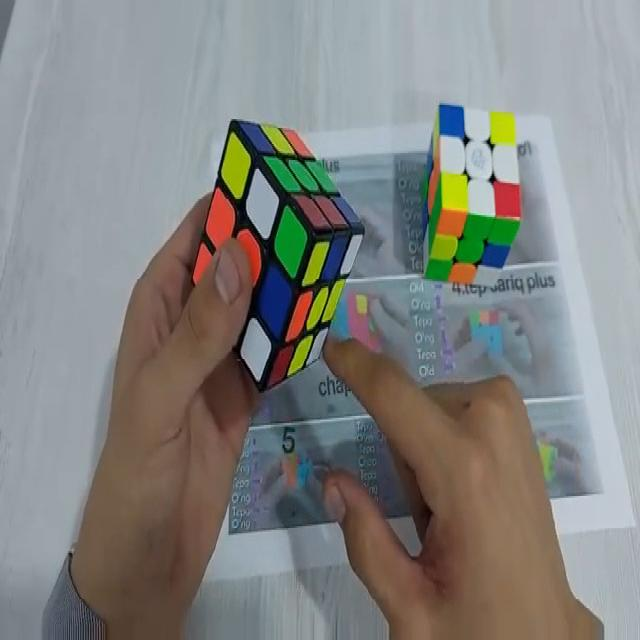Rub: (193, 118, 365, 391), (421, 104, 523, 288)
